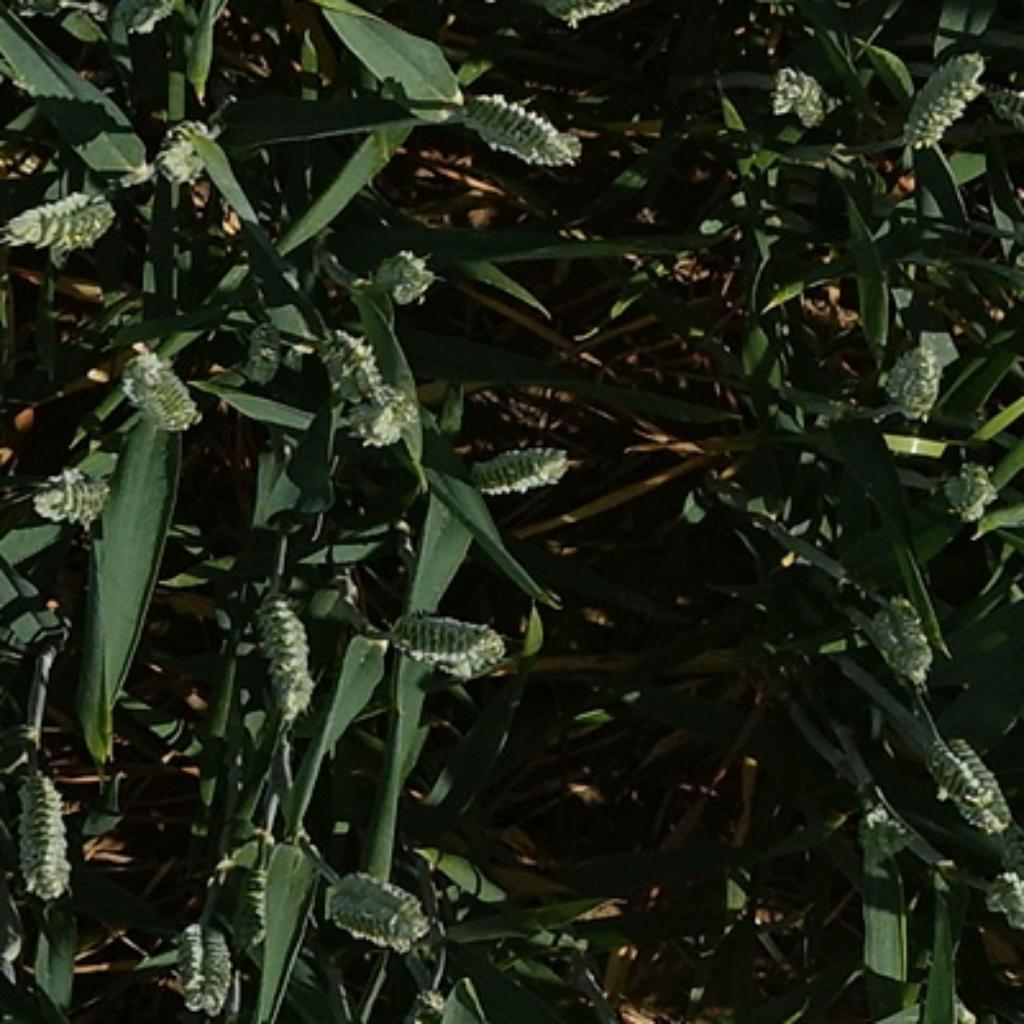0-0: (445, 79, 586, 166), (2, 750, 79, 906), (909, 730, 1017, 840), (373, 599, 519, 678), (317, 855, 435, 949), (245, 573, 320, 716), (893, 38, 988, 148), (169, 893, 248, 1024), (107, 337, 202, 435), (2, 179, 122, 256), (852, 583, 939, 688), (215, 307, 312, 399), (977, 839, 1024, 1021), (230, 782, 279, 940), (20, 453, 120, 529), (460, 435, 578, 499), (312, 325, 396, 401), (875, 332, 949, 417), (337, 381, 422, 450), (358, 243, 445, 307), (929, 450, 1003, 524), (151, 112, 222, 189), (764, 63, 839, 132), (847, 798, 919, 867), (977, 71, 1024, 153), (99, 0, 199, 38), (537, 0, 650, 23), (411, 985, 451, 1023)
